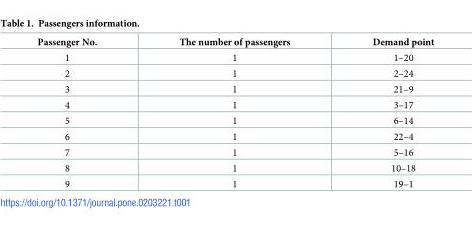table: (36, 36, 433, 188)
table column: (137, 36, 330, 188), (330, 36, 433, 188), (36, 36, 137, 188)
table column header: (36, 36, 433, 49)
table row: (36, 49, 433, 65), (36, 65, 433, 81), (36, 96, 433, 112), (36, 112, 433, 128), (36, 128, 433, 144), (36, 144, 433, 160), (36, 81, 433, 96), (36, 160, 433, 175), (36, 36, 433, 49), (36, 175, 433, 188)
